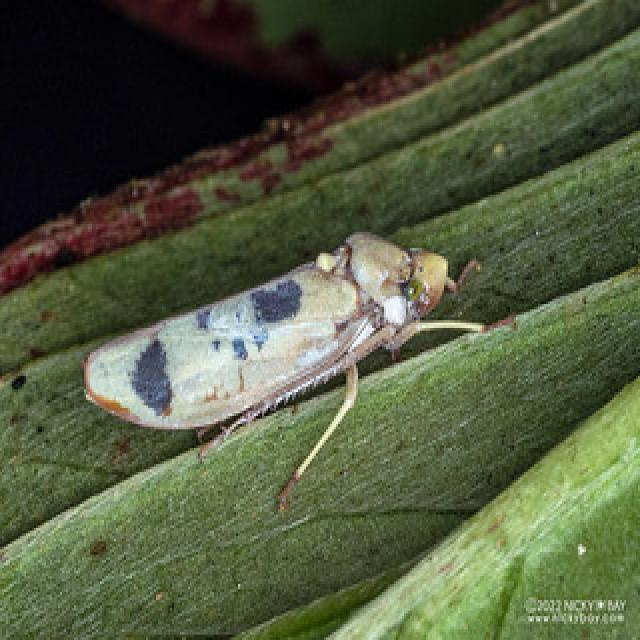Yechan: (79, 223, 499, 489)
